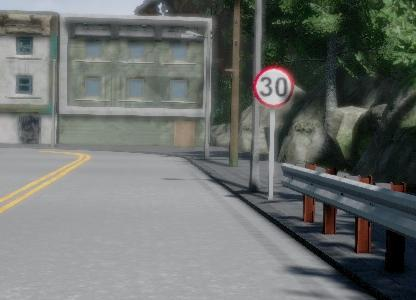Speed_30: (253, 64, 294, 105)
